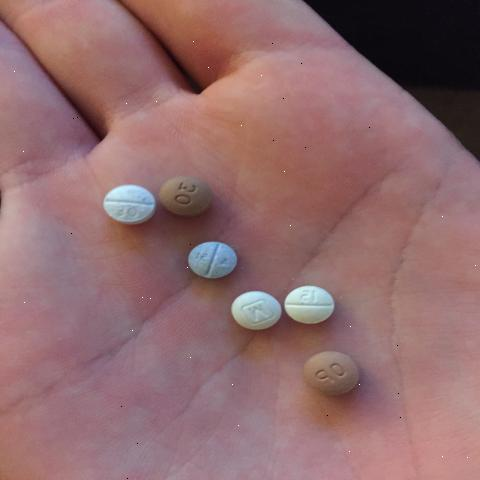Pill: (85, 170, 155, 238), (284, 272, 356, 328), (214, 282, 281, 333), (169, 237, 244, 278)
